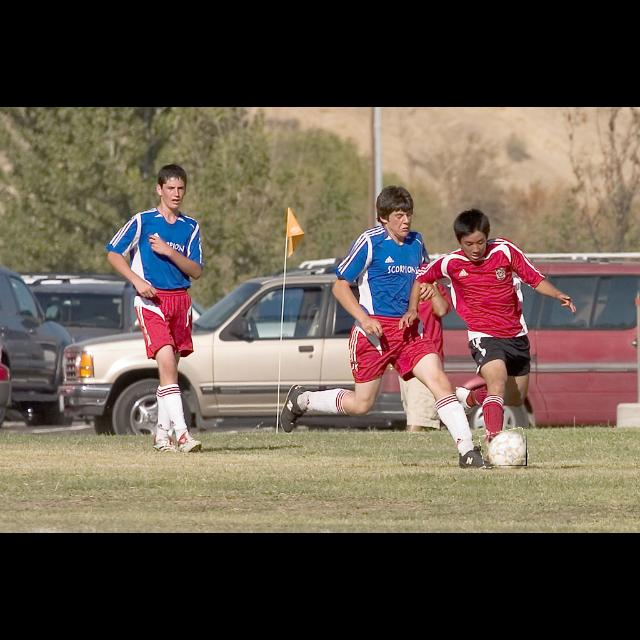Football: (481, 430, 527, 466)
